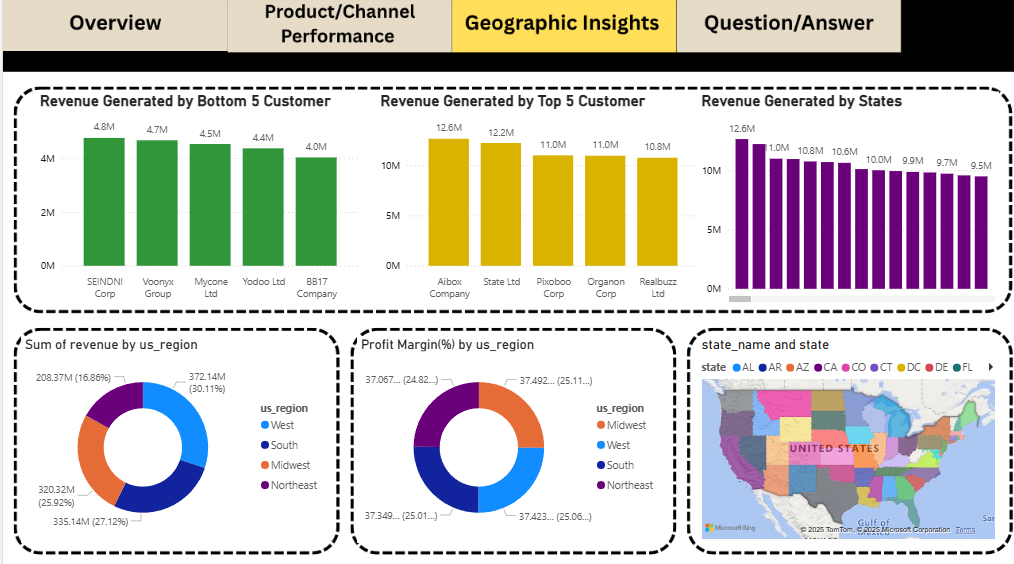

The page's visual inventory and layout, read from the dashboard file:
{"tool":"powerbi","page":{"name":"Geographic Insights ","canvas":[1280,720],"ordinal":2},"visuals":[{"type":"actionButton","box":[0,0,283.5,69.9],"z":0},{"type":"actionButton","box":[283.5,0,283.5,69.9],"z":1000},{"type":"actionButton","box":[846.6,0,283.5,69.9],"z":2000},{"type":"clusteredColumnChart","title":"Revenue Generated by Bottom 5 Customer","fields":{"Y":["Budget_Data.Bottom5RevenueCustomers"],"Category":["Sales_data(EDA Exported).customer_name"]},"box":[41.6,122.8,412,270.2],"z":3000},{"type":"clusteredColumnChart","title":"Revenue Generated by Top 5 Customer","fields":{"Category":["Sales_data(EDA Exported).customer_name"],"Y":["Budget_Data.Top5RevenueCustomers"]},"box":[470.6,122.8,412,270.2],"z":4000},{"type":"clusteredColumnChart","title":"Revenue Generated by States","fields":{"Category":["Sales_data(EDA Exported).customer_name"],"Y":["Budget_Data.Top5StatesByRevenue"]},"box":[875,122.8,379.8,270.2],"z":5000},{"type":"donutChart","fields":{"Category":["Sales_data(EDA Exported).us_region"],"Y":["Sum(Sales_data(EDA Exported).revenue)"]},"box":[22.7,430.9,387.4,260.8],"z":6000},{"type":"donutChart","fields":{"Category":["Sales_data(EDA Exported).us_region"],"Y":["Sales_data(EDA Exported).Profit Margin(%)"]},"box":[446,430.9,387.4,260.8],"z":7000},{"type":"filledMap","fields":{"Category":["Sales_data(EDA Exported).state_name"],"Series":["Sales_data(EDA Exported).state"]},"box":[875,431,380,261],"z":8000}]}

Visuals, with their boxes in screenshot pixels (x1, y1, x2, y2), scaled from the page's 1280x720 canvas onto the 1014x564 screenshot:
actionButton: <bbox>0, 0, 225, 55</bbox>
actionButton: <bbox>225, 0, 449, 55</bbox>
actionButton: <bbox>671, 0, 895, 55</bbox>
"Revenue Generated by Bottom 5 Customer" clusteredColumnChart: <bbox>33, 96, 359, 308</bbox>
"Revenue Generated by Top 5 Customer" clusteredColumnChart: <bbox>373, 96, 699, 308</bbox>
"Revenue Generated by States" clusteredColumnChart: <bbox>693, 96, 994, 308</bbox>
donutChart - Sales_data(EDA Exported).us_region x Sum(Sales_data(EDA Exported).revenue): <bbox>18, 338, 325, 542</bbox>
donutChart - Sales_data(EDA Exported).us_region x Sales_data(EDA Exported).Profit Margin(%): <bbox>353, 338, 660, 542</bbox>
filledMap - Sales_data(EDA Exported).state_name x Sales_data(EDA Exported).state: <bbox>693, 338, 994, 542</bbox>
